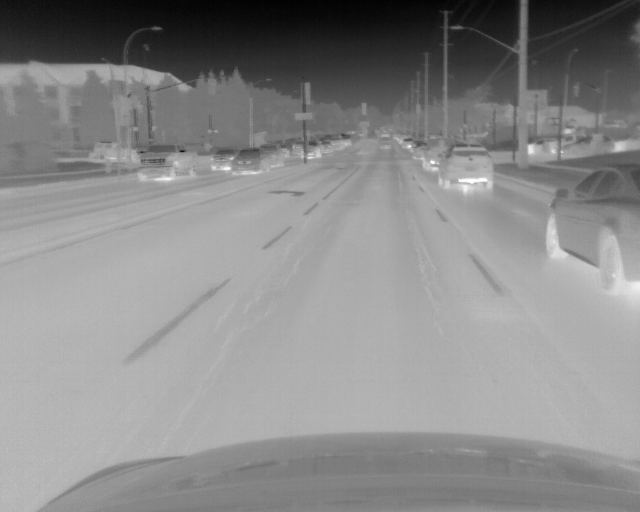car: (543, 162, 640, 292), (438, 144, 493, 189), (138, 144, 196, 180), (559, 136, 613, 154), (235, 147, 269, 175), (94, 139, 135, 161), (424, 138, 448, 171), (546, 135, 580, 153), (210, 148, 235, 171), (262, 143, 283, 168), (528, 136, 554, 153), (300, 141, 321, 160), (278, 139, 293, 156), (413, 145, 430, 158), (322, 141, 333, 154), (402, 137, 413, 148)
